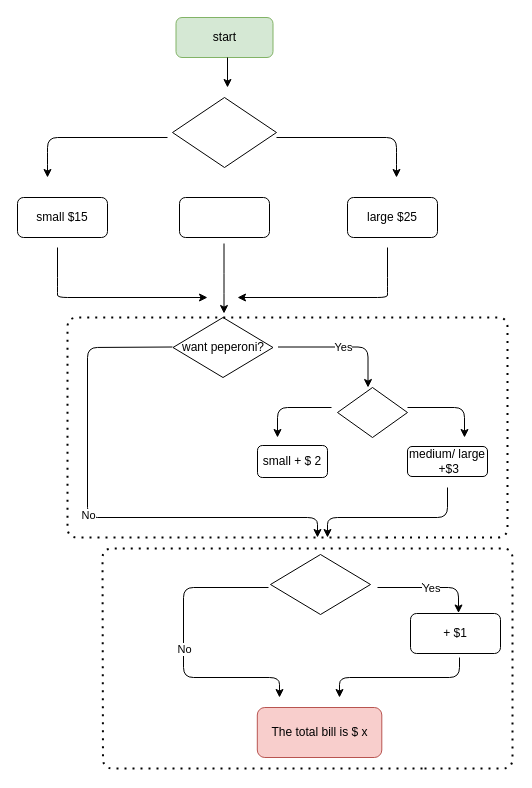
The diagram is 532 pixels wide and 788 high, and some of its shapes have lost their labels. Each missing label, with the centre of its shape:
"medium $20" goes at point 224,217.
"pizza size?" goes at point 224,132.
"size pizza" goes at point 372,412.
"want cheese?" goes at point 320,584.
